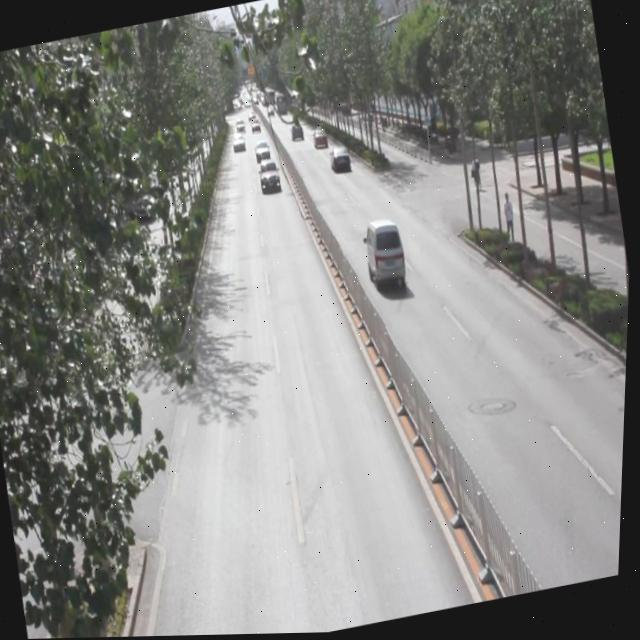car: (256, 154, 283, 193), (328, 143, 353, 176), (309, 126, 330, 152), (253, 139, 273, 166), (288, 122, 306, 145), (230, 131, 247, 153)
truck: (362, 217, 411, 293)
